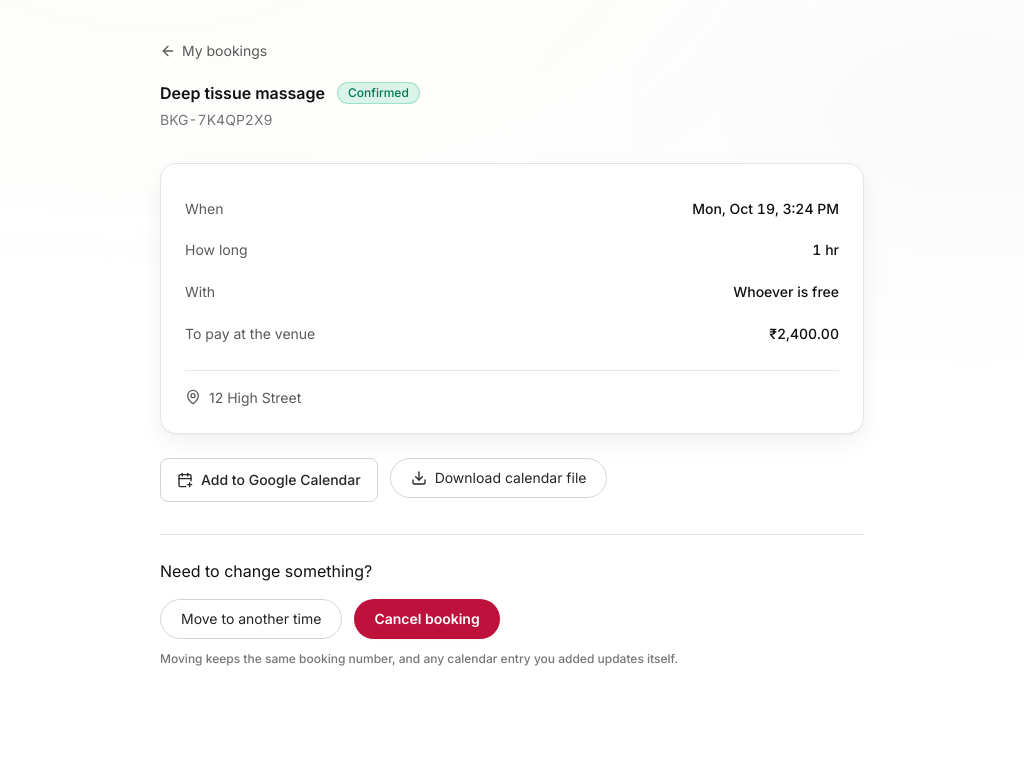
it: MyBookingDetail › points at the phone when the shop’s cut-off has passed
This screenshot has width=1024, height=768.
Step 1. Click the button "Cancel booking" → (427, 619), box [354,599,500,639]
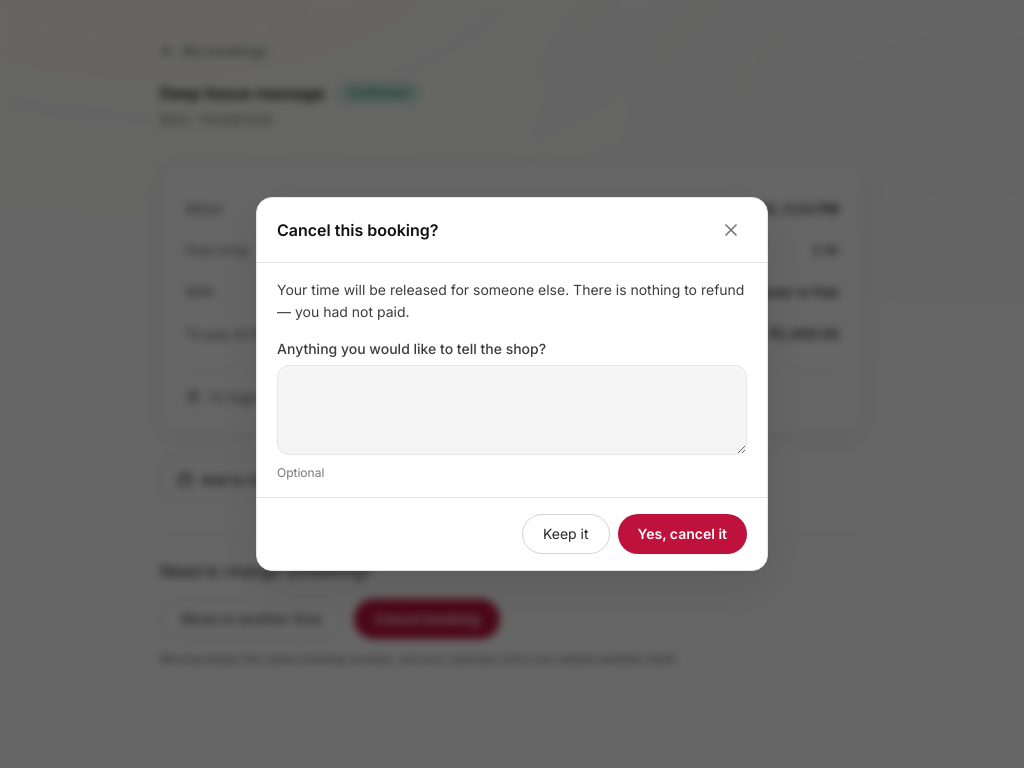
Step 2. Click the button "Yes, cancel it" → (682, 534), box [618,514,747,554]
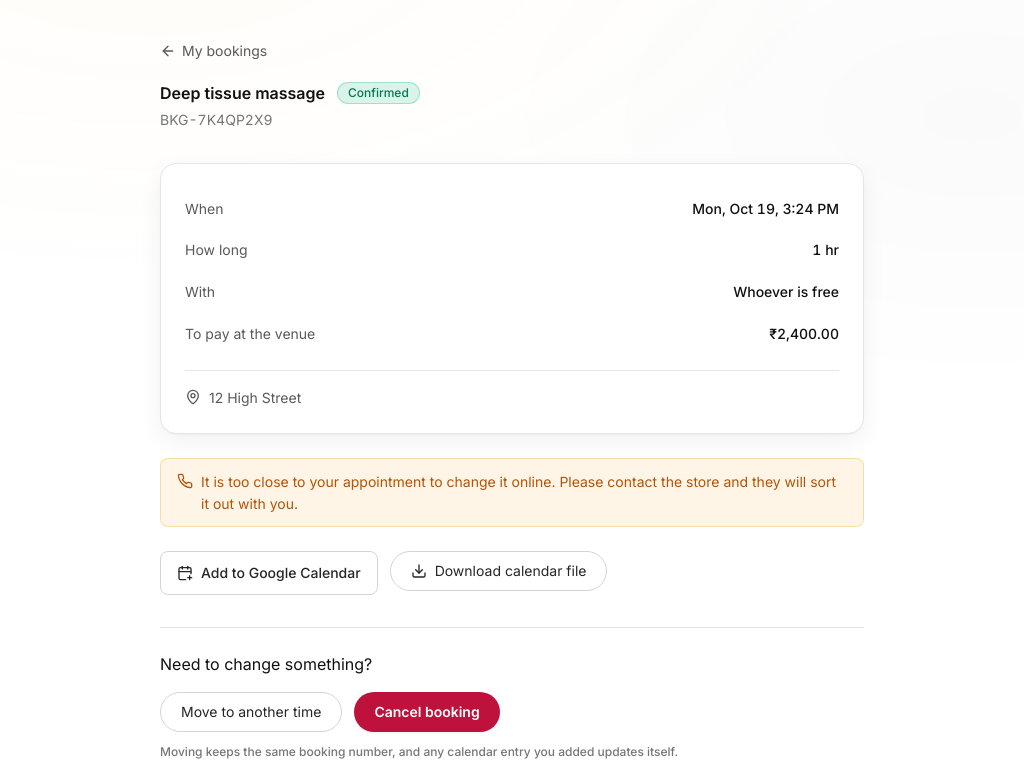
Now the message shows "contact the store", box [201,473,836,512]
